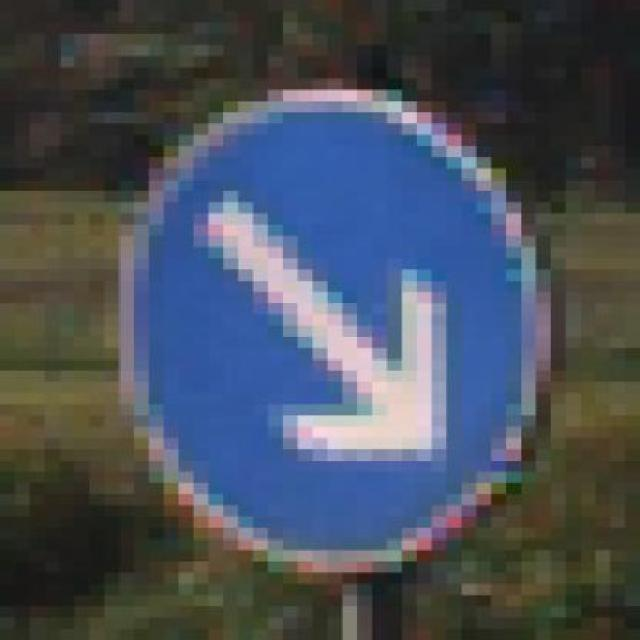Keep-Right: (75, 78, 550, 584)
